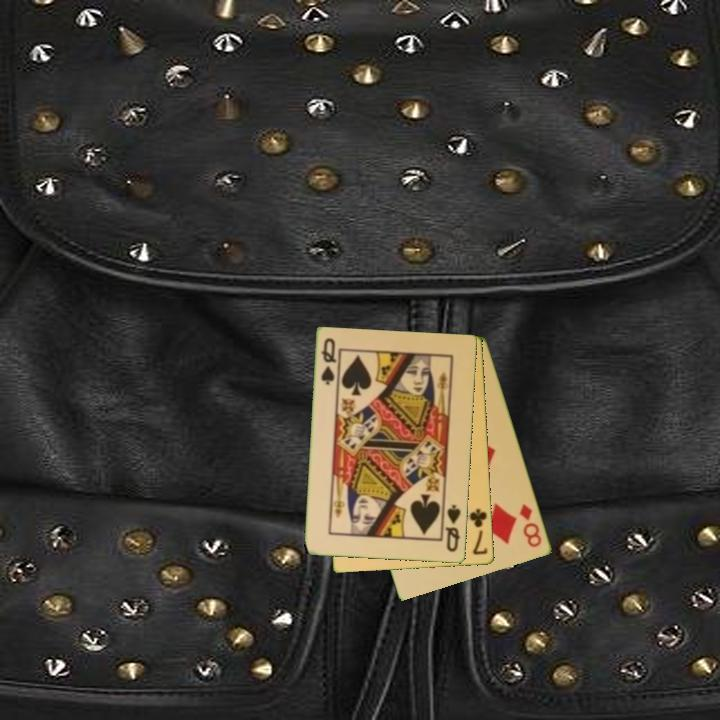7c: (466, 505, 490, 558)
8d: (516, 500, 545, 551)
Qs: (442, 501, 464, 555), (318, 335, 339, 388)
